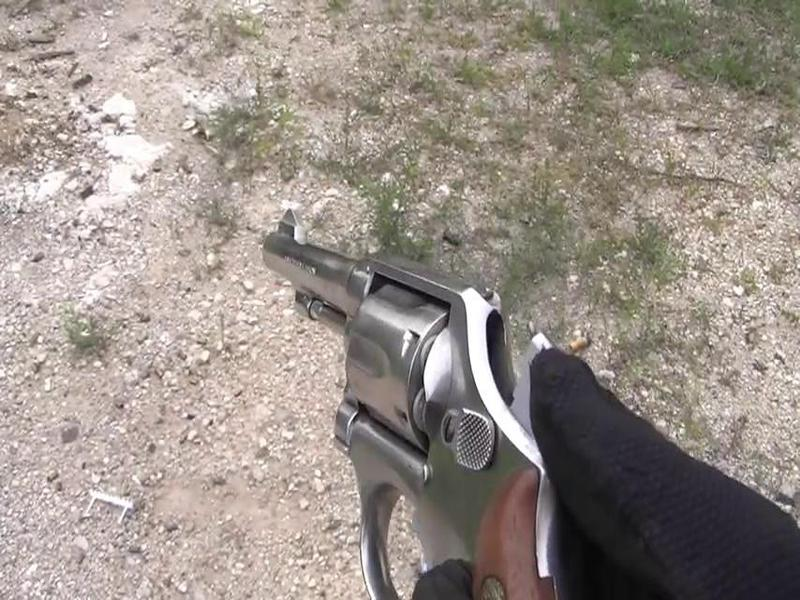Revolver: (245, 230, 602, 600)
